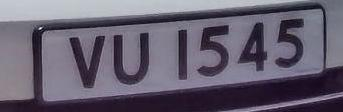1: (166, 22, 201, 85)
4: (232, 16, 275, 79)
5: (190, 19, 236, 82), (268, 14, 308, 75)
U: (108, 27, 157, 91)
V: (65, 29, 113, 95)
